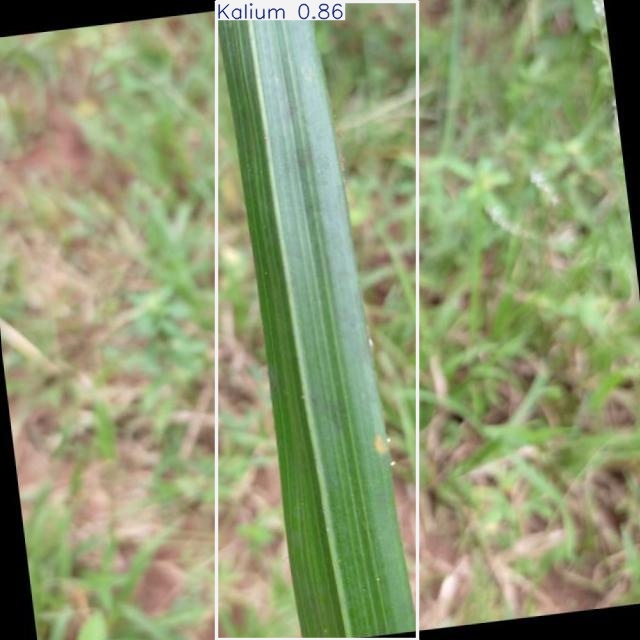Kalium: (216, 1, 418, 640)
